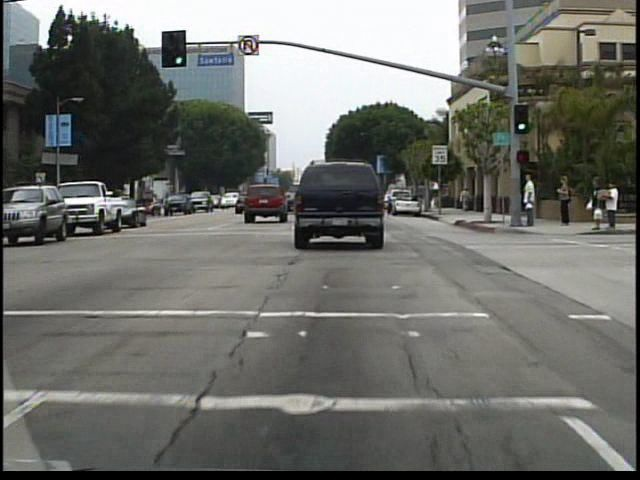person: (520, 168, 540, 230), (557, 171, 576, 227), (457, 183, 472, 214), (422, 184, 435, 212)
